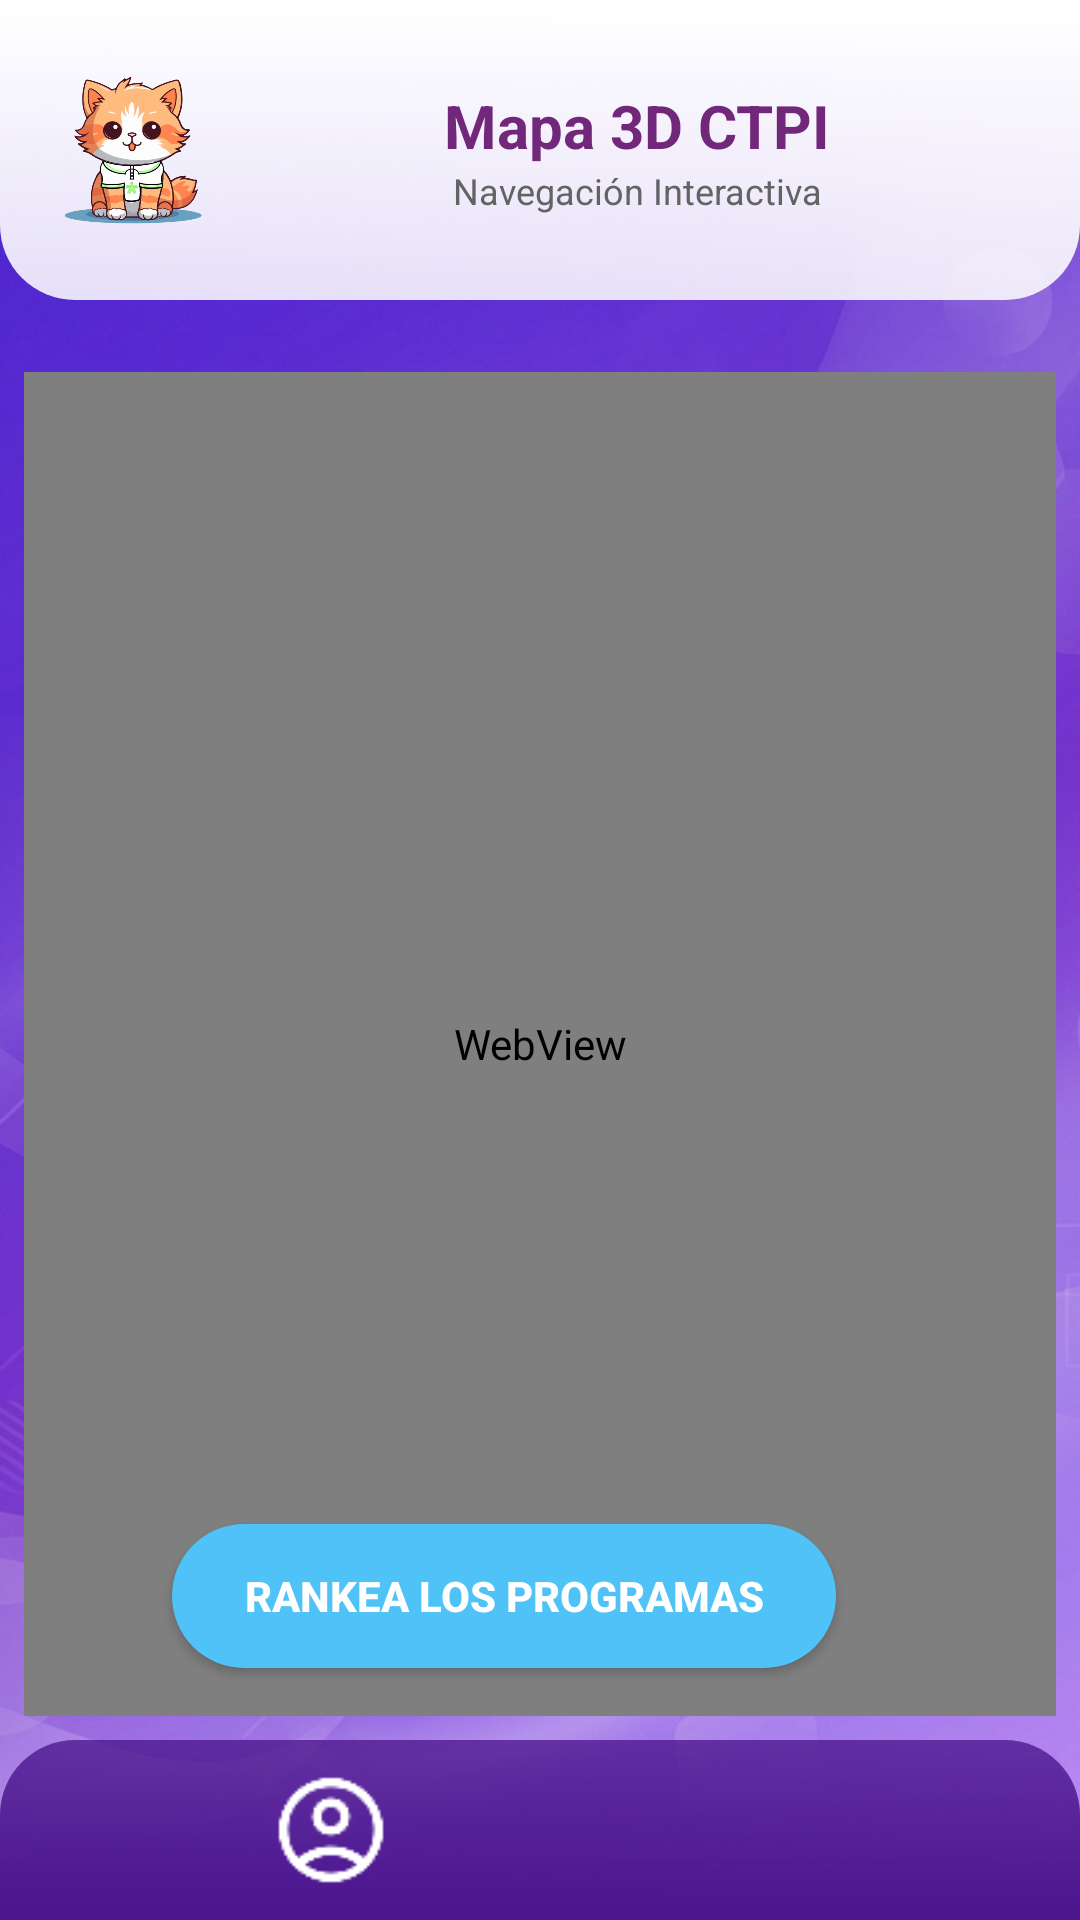

Icons on this 1080px x 1920px Android screen, each with the point to tap as (x,y):
gato: (133,150)
